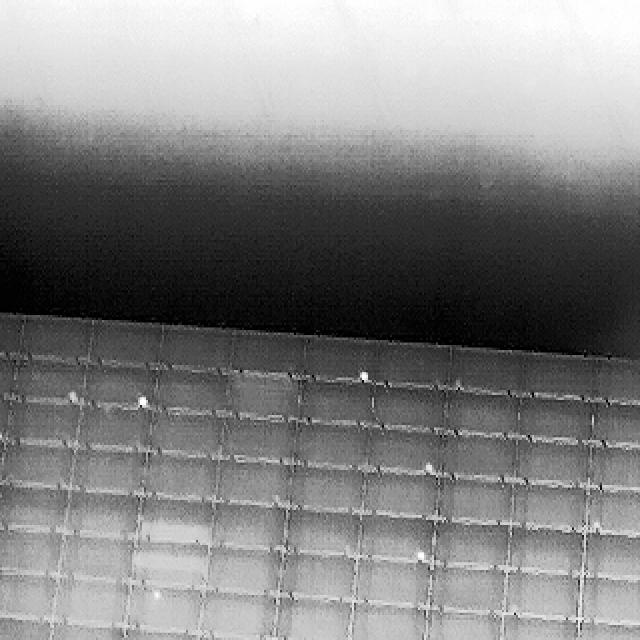Hotspots: (412, 546, 432, 564), (420, 460, 438, 476), (133, 393, 148, 411), (152, 588, 166, 606), (359, 371, 372, 386)
PV-modules: (152, 363, 235, 412), (354, 556, 432, 608), (373, 340, 454, 389), (51, 574, 127, 626), (507, 526, 583, 578), (440, 431, 519, 481), (5, 398, 82, 449), (287, 466, 367, 515), (428, 562, 506, 612), (196, 590, 274, 640), (148, 411, 228, 459), (89, 318, 164, 369), (436, 476, 514, 525), (56, 532, 132, 582), (281, 510, 360, 558), (157, 326, 237, 373), (432, 524, 513, 570), (512, 483, 588, 532), (525, 348, 598, 399), (73, 448, 147, 498), (143, 456, 220, 504), (205, 548, 282, 596), (505, 570, 582, 618), (451, 347, 528, 395), (443, 393, 521, 440), (358, 514, 432, 563), (213, 502, 288, 550), (295, 422, 370, 470), (135, 541, 210, 589), (138, 494, 213, 542), (278, 552, 354, 599), (66, 491, 142, 538), (363, 426, 439, 473), (131, 588, 205, 636), (222, 416, 295, 464), (520, 396, 593, 444), (375, 385, 448, 433), (74, 401, 146, 449), (12, 358, 87, 404), (274, 597, 354, 640), (301, 379, 374, 426), (16, 317, 89, 364), (231, 370, 301, 419), (363, 472, 437, 518), (518, 442, 592, 488), (2, 485, 71, 534), (232, 332, 306, 377), (215, 460, 288, 505), (304, 334, 375, 380), (578, 573, 640, 625), (1, 446, 74, 490), (0, 529, 61, 578), (346, 602, 424, 640), (582, 532, 640, 582), (85, 364, 154, 406), (586, 485, 640, 535), (590, 402, 640, 450), (422, 610, 502, 640), (0, 573, 54, 615), (594, 357, 640, 405), (592, 440, 640, 485), (498, 615, 578, 640), (42, 620, 120, 640), (574, 620, 640, 640), (0, 615, 48, 640), (120, 627, 200, 640), (0, 316, 20, 359), (0, 351, 16, 404), (192, 632, 268, 640)
